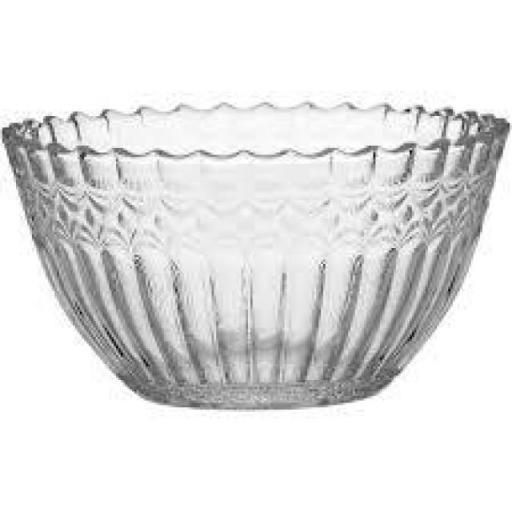glass: (0, 90, 512, 416)
